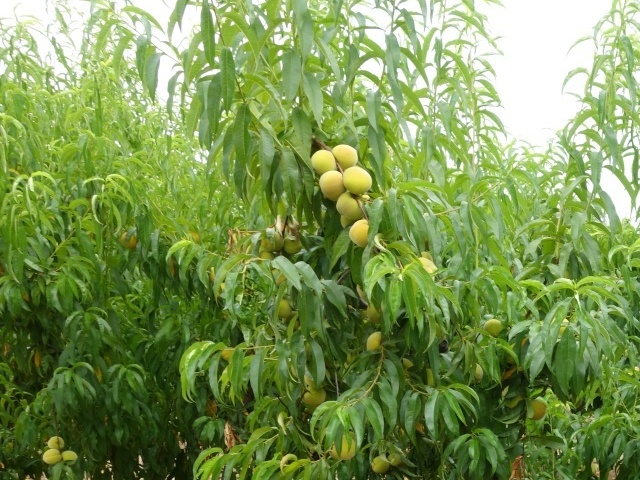peach: (332, 190, 374, 222), (324, 433, 360, 467), (343, 215, 377, 248), (339, 165, 374, 195), (316, 168, 348, 198), (307, 145, 338, 175), (330, 139, 361, 167), (300, 381, 328, 410), (257, 228, 285, 255), (363, 328, 390, 355), (364, 298, 388, 326), (280, 230, 303, 259), (526, 394, 549, 422), (480, 315, 505, 340), (367, 452, 391, 477), (37, 446, 61, 471), (57, 447, 80, 470), (272, 297, 293, 321), (45, 432, 67, 453), (116, 230, 138, 250), (386, 447, 404, 467)
